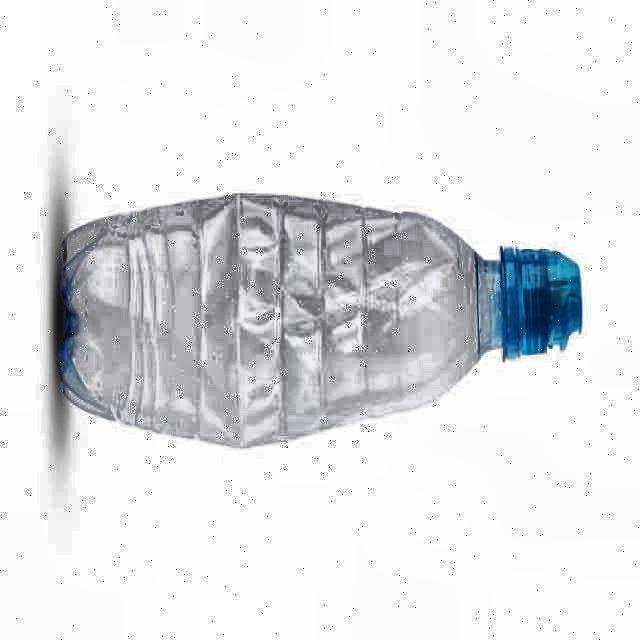plastic: (55, 194, 582, 446)
